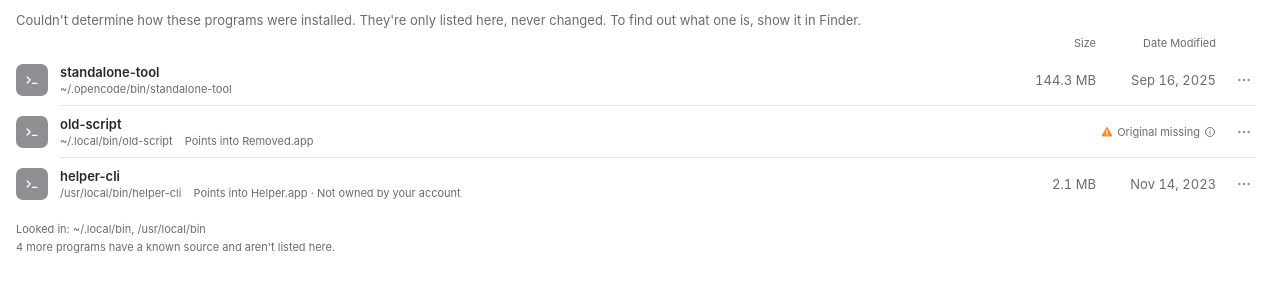
a row's ⋯ menu › is on every row, named after it, with Show in Finder and Copy path
This screenshot has width=1276, height=283.
Expected: the text "standalone-tool" is shown, [60, 64, 160, 80]
Click the button named "More actions for " at (1244, 80), box [1232, 68, 1256, 92]
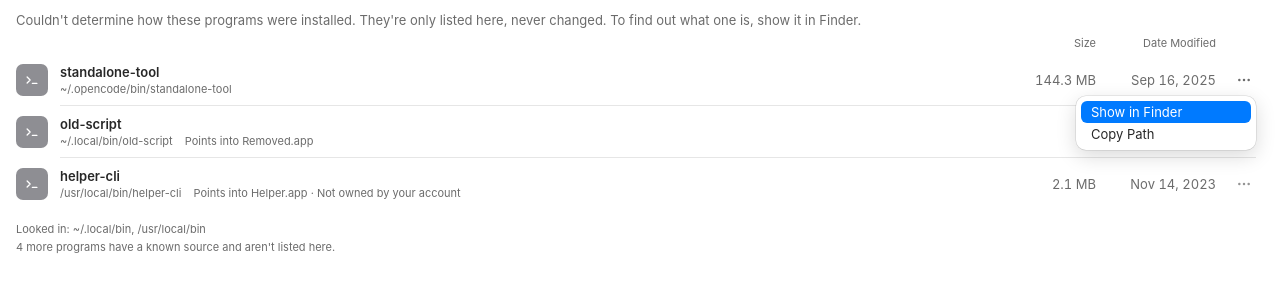
Expected: the menu items read "Show in Finder", "Copy Path", in this order, [1081, 101, 1251, 123]; [1081, 123, 1251, 145]
Click the button named "More actions for " at (1244, 80), box [1232, 68, 1256, 92]
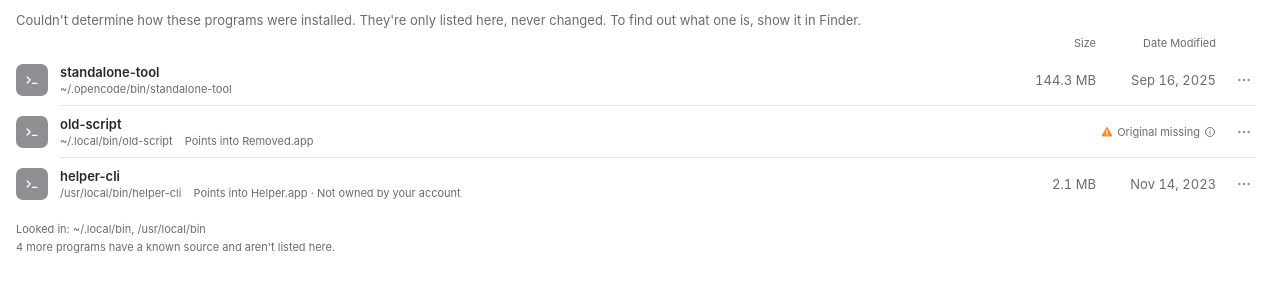
Expected: the menu is gone
Click the button named "More actions for " at (1244, 132), box [1232, 120, 1256, 144]
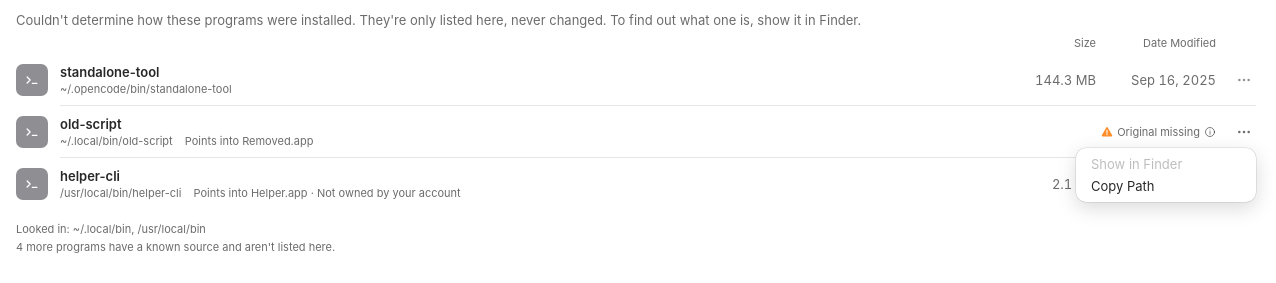
Expected: the menu items read "Show in Finder", "Copy Path", in this order, [1081, 153, 1251, 175]; [1081, 175, 1251, 197]
Click the button named "More actions for " at (1244, 132), box [1232, 120, 1256, 144]
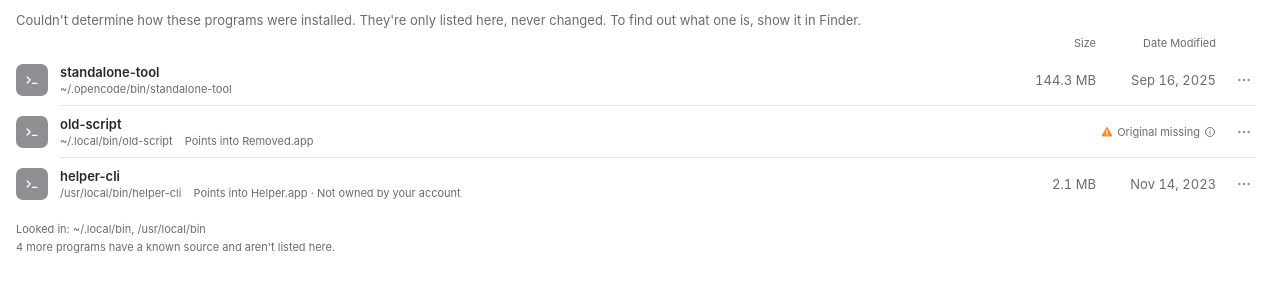
Expected: the menu is gone
Click the button named "More actions for " at (1244, 184), box [1232, 172, 1256, 196]
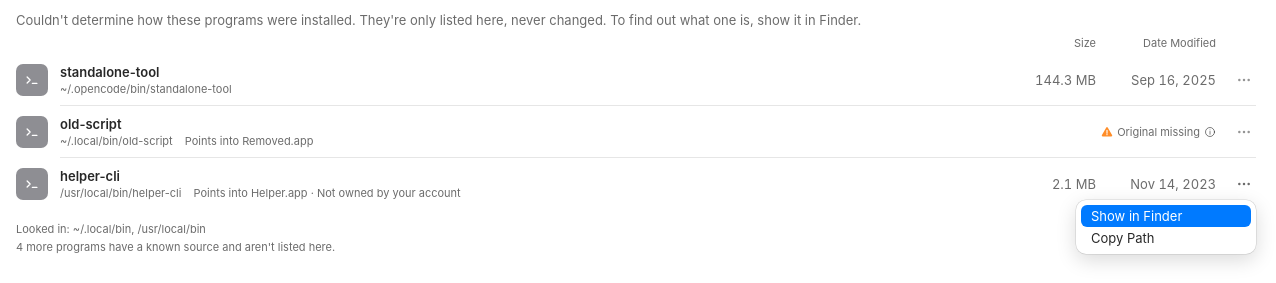
Expected: the menu items read "Show in Finder", "Copy Path", in this order, [1081, 205, 1251, 227]; [1081, 227, 1251, 249]
Click the button named "More actions for " at (1244, 184), box [1232, 172, 1256, 196]
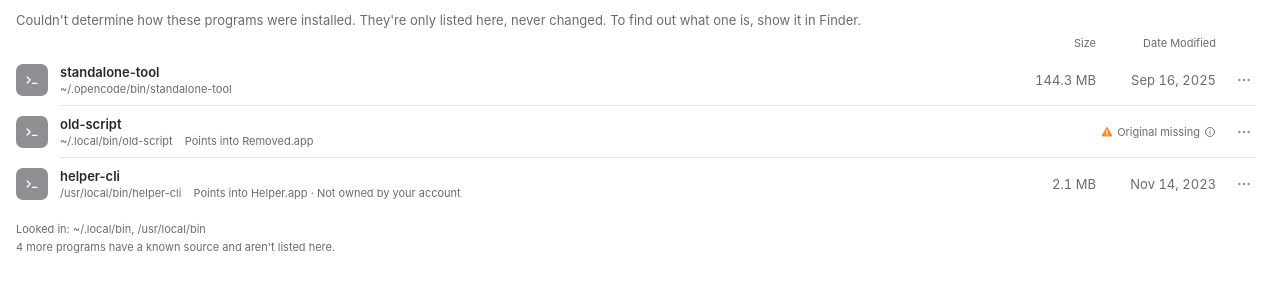
Expected: the menu is gone
